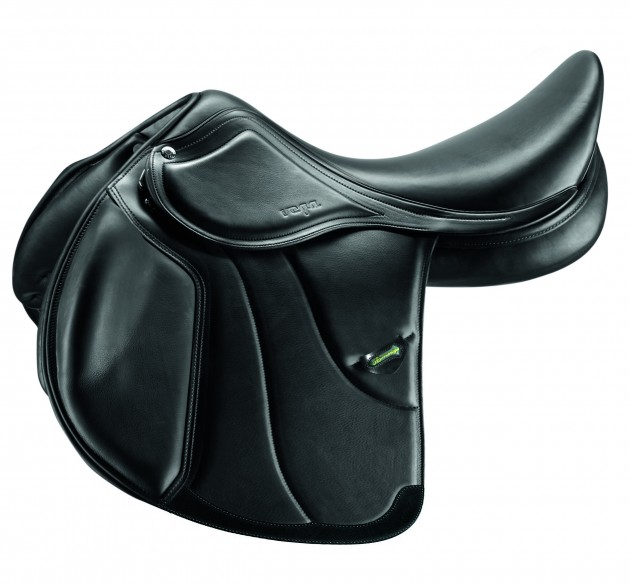saddle: (40, 80, 590, 491)
